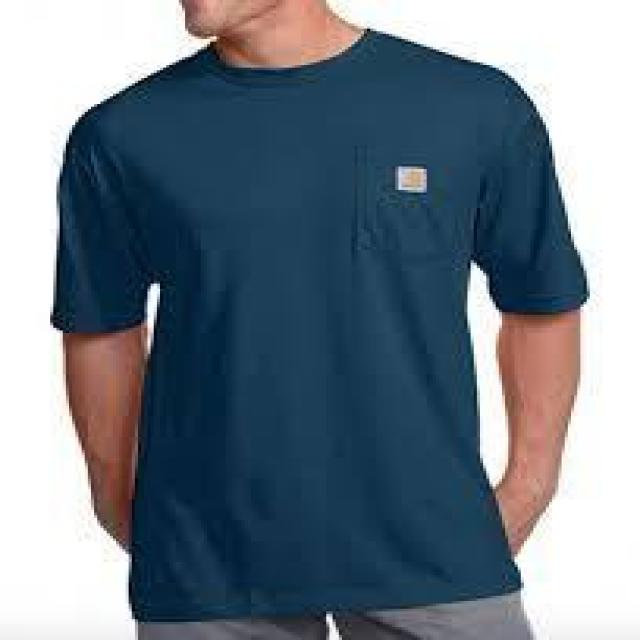Tshirt: (47, 28, 593, 624)
